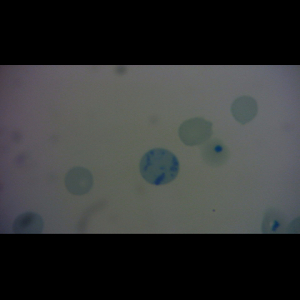aggregate reticulocyte: (138, 148, 180, 187)
erythrocyte: (177, 117, 214, 147), (63, 166, 95, 196), (230, 95, 259, 126)
